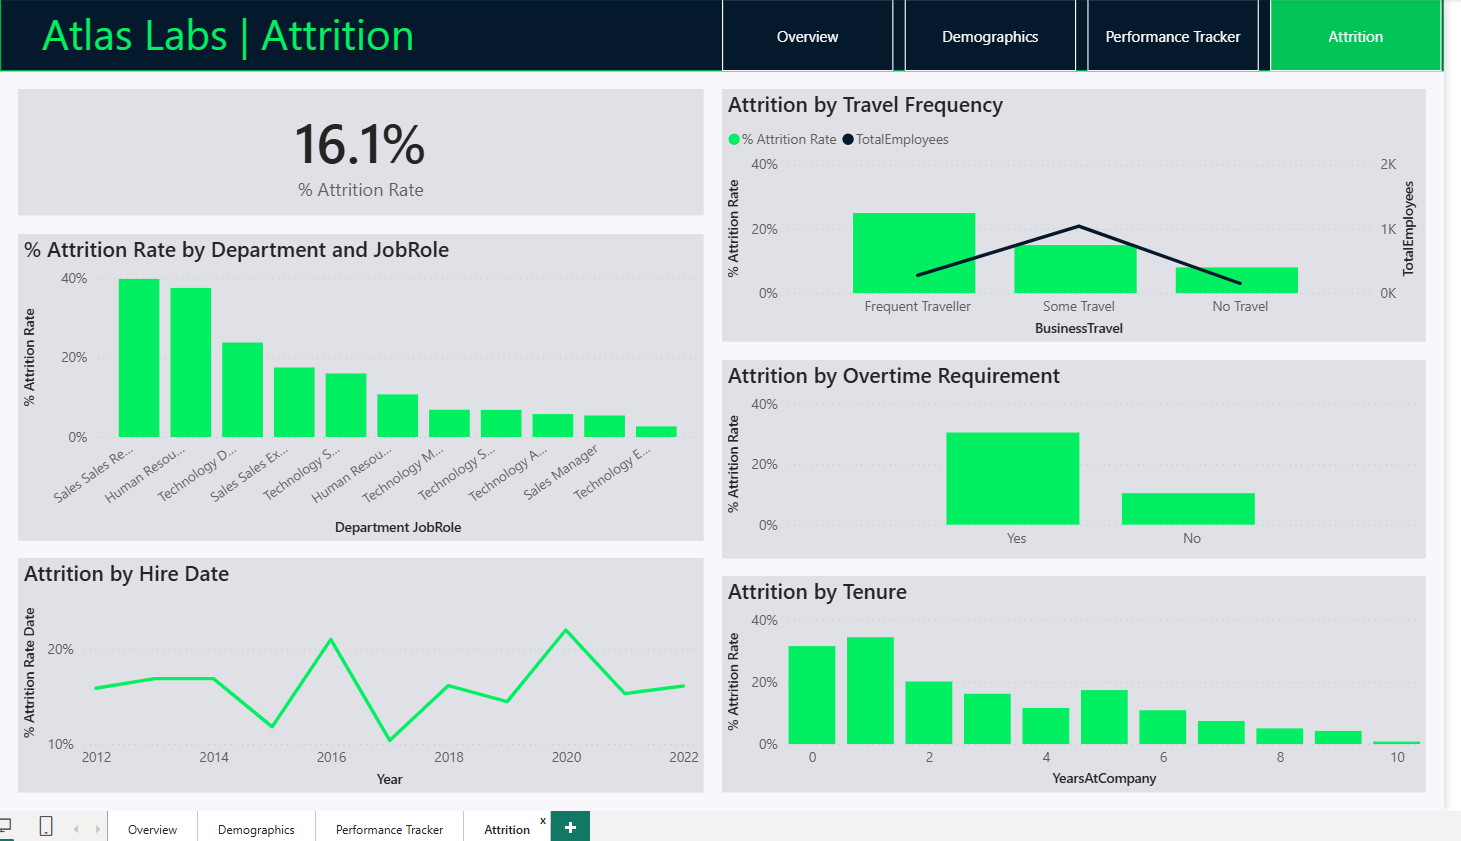

What the dashboard file says about the page in this screenshot:
{"tool":"powerbi","page":{"name":"Attrition","canvas":[1280,720],"ordinal":3},"visuals":[{"type":"card","fields":{"Values":["_Measures.% Attrition Rate"]},"box":[16,80,608,112],"z":0},{"type":"columnChart","fields":{"Category":["DimEmployee.Department","DimEmployee.JobRole"],"Y":["_Measures.% Attrition Rate"]},"box":[16,208,608,272],"z":1000},{"type":"lineChart","title":"Attrition by Hire Date","fields":{"Y":["_Measures.% Attrition Rate Date"],"Category":["DimDate.Date.Variation.Date Hierarchy.Year","DimDate.Date.Variation.Date Hierarchy.Quarter","DimDate.Date.Variation.Date Hierarchy.Month","DimDate.Date.Variation.Date Hierarchy.Day"]},"box":[16,496,608,208],"z":2000},{"type":"lineStackedColumnComboChart","title":"Attrition by Travel Frequency","fields":{"Y":["_Measures.% Attrition Rate"],"Category":["DimEmployee.BusinessTravel"],"Y2":["_Measures.TotalEmployees"]},"box":[640,80,624,224],"z":3000},{"type":"columnChart","title":"Attrition by Overtime Requirement","fields":{"Category":["DimEmployee.OverTime"],"Y":["_Measures.% Attrition Rate"]},"box":[640,320,624,176],"z":4000},{"type":"columnChart","title":"Attrition by Tenure","fields":{"Category":["DimEmployee.YearsAtCompany"],"Y":["_Measures.% Attrition Rate"]},"box":[640,512,624,192],"z":5000},{"type":"shape","box":[0,0,1280,64],"z":6000},{"type":"textbox","box":[32,0,624,64],"z":7000},{"type":"pageNavigator","box":[640,0,640,64],"z":8000}]}

Visuals, with their boxes on the page's 1280x720 design canvas (x1, y1, x2, y2). These are canvas units, not pixel positions in the 1461x841 screenshot, which may show the page scaled, cropped or inside an application window:
card - _Measures.% Attrition Rate: crop(16, 80, 624, 192)
columnChart - DimEmployee.Department x DimEmployee.JobRole: crop(16, 208, 624, 480)
"Attrition by Hire Date" lineChart: crop(16, 496, 624, 704)
"Attrition by Travel Frequency" lineStackedColumnComboChart: crop(640, 80, 1264, 304)
"Attrition by Overtime Requirement" columnChart: crop(640, 320, 1264, 496)
"Attrition by Tenure" columnChart: crop(640, 512, 1264, 704)
shape: crop(0, 0, 1280, 64)
textbox: crop(32, 0, 656, 64)
pageNavigator: crop(640, 0, 1280, 64)
